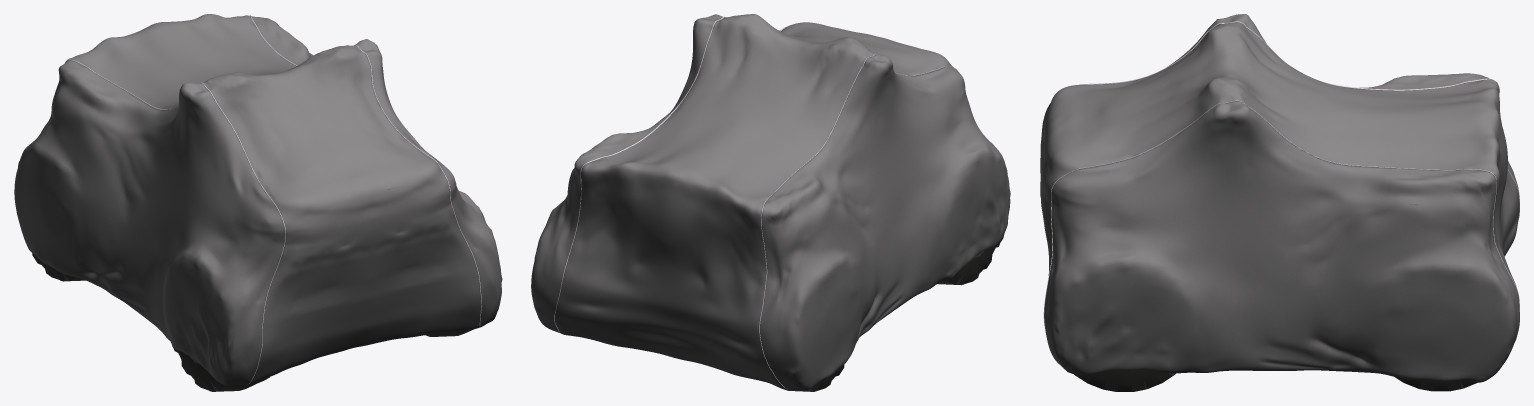
File: quadriciclo.glb
The picture shows the model from 3 angles, left to right: view 1: azimuth 30°, elevation 25°; view 2: azimuth 150°, elevation 25°; view 3: azimuth 270°, elevation 25°; orthographic projection. The views are drawn at different scales.
Visible parts, largest first — view 1: CAPA, RODA, LINHA; view 2: CAPA, RODA, LINHA; view 3: CAPA, RODA, LINHA.
Boxes of the visible parts, x1=… form: CAPA: x1=14, y1=14, x2=502, y2=385; RODA: x1=32, y1=253, x2=474, y2=391; LINHA: x1=65, y1=15, x2=481, y2=384; CAPA: x1=531, y1=14, x2=1010, y2=390; RODA: x1=770, y1=242, x2=1000, y2=391; LINHA: x1=554, y1=16, x2=957, y2=388; CAPA: x1=1040, y1=14, x2=1519, y2=382; RODA: x1=1074, y1=368, x2=1477, y2=391; LINHA: x1=1043, y1=21, x2=1519, y2=341.
Size of the model in its own units: 3.14 by 2.78 by 4.37.
4 materials, 2 textured.
